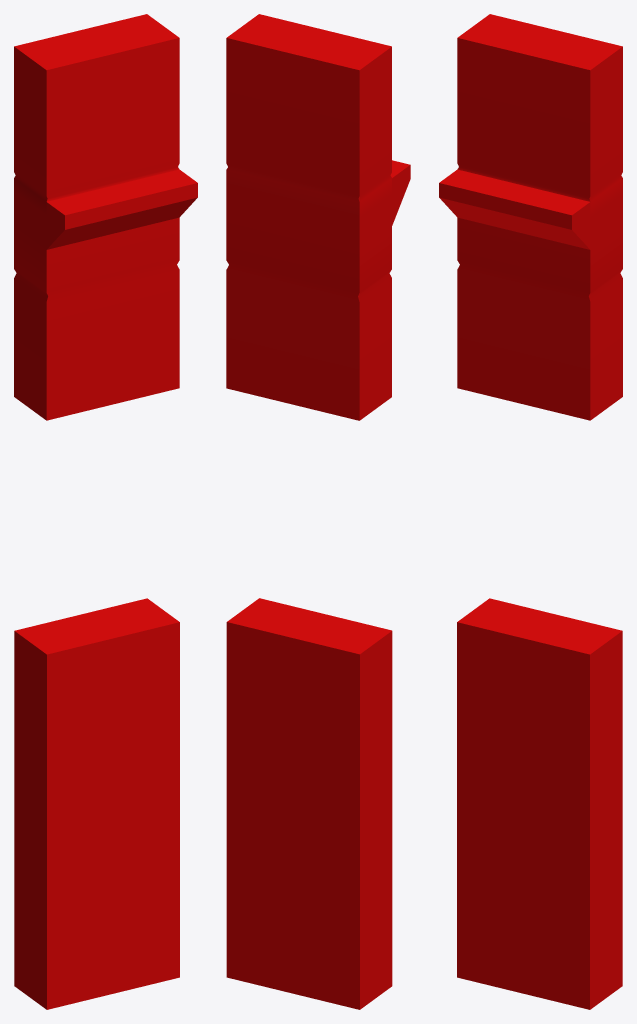
Rendered from Arc_Orn_01_Lod0.fbx.
3 renders of one model, left to right at view 1: azimuth 30°, elevation 25°; view 2: azimuth 150°, elevation 25°; view 3: azimuth 330°, elevation 25°, orthographic.
Visible parts, largest first — view 1: Arc_Orn_01_Lod0; view 2: Arc_Orn_01_Lod0; view 3: Arc_Orn_01_Lod0.
Boxes of the visible parts, bbox=[...] form: Arc_Orn_01_Lod0: bbox=[14, 14, 197, 1009]; Arc_Orn_01_Lod0: bbox=[226, 14, 410, 1009]; Arc_Orn_01_Lod0: bbox=[439, 14, 622, 1009].
Bounding box in the file's own units: 136 × 919 × 90.24.
